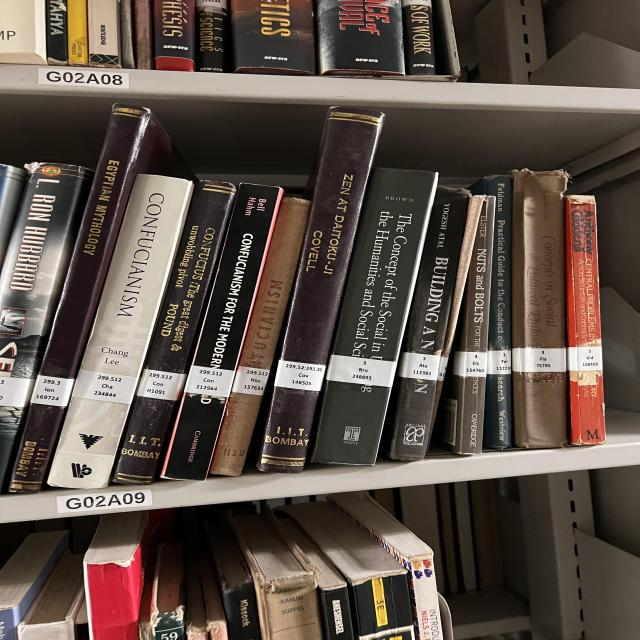Book: (8, 104, 188, 494), (257, 106, 385, 474), (47, 174, 193, 489), (112, 180, 237, 484), (312, 168, 437, 465), (162, 184, 283, 480), (0, 164, 93, 482), (210, 198, 310, 476), (382, 186, 483, 460), (512, 169, 568, 449), (437, 196, 495, 455), (470, 175, 513, 449), (565, 195, 605, 445)
Label: (327, 355, 397, 388), (72, 369, 138, 404), (185, 365, 235, 398), (275, 360, 327, 391), (137, 369, 187, 401), (30, 375, 75, 406), (512, 348, 567, 372), (397, 352, 442, 380), (0, 376, 35, 408), (232, 366, 270, 395), (453, 351, 487, 378), (567, 346, 603, 371), (487, 350, 512, 375)
